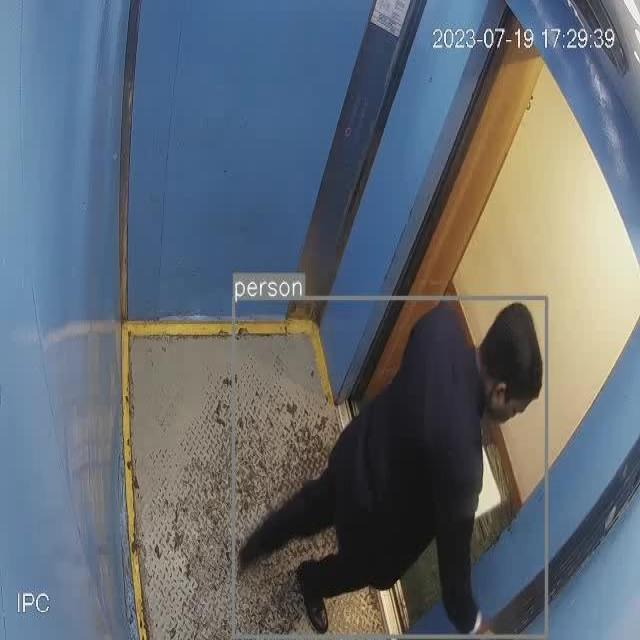person: (234, 295, 547, 636)
